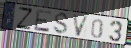0: (90, 18, 105, 39)
3: (108, 20, 124, 43)
E: (33, 9, 53, 34)
S: (52, 12, 70, 36)
V: (71, 14, 90, 38)
Z: (16, 7, 34, 31)
